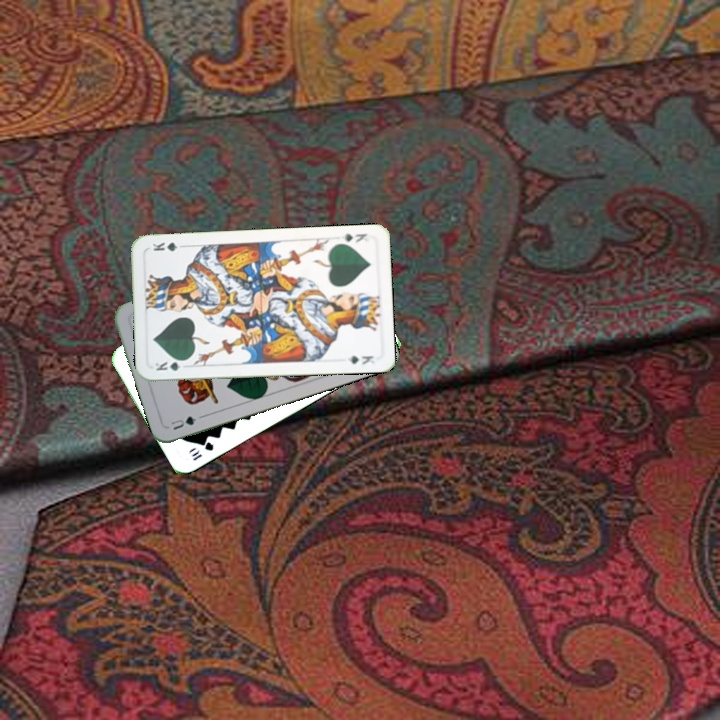G10: (188, 438, 216, 463)
GK: (151, 356, 190, 374), (337, 229, 373, 246)
GU: (167, 412, 199, 433)
